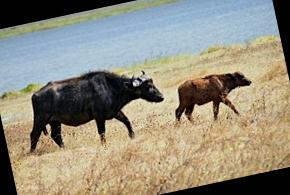Buffalo: (31, 46, 170, 148)
